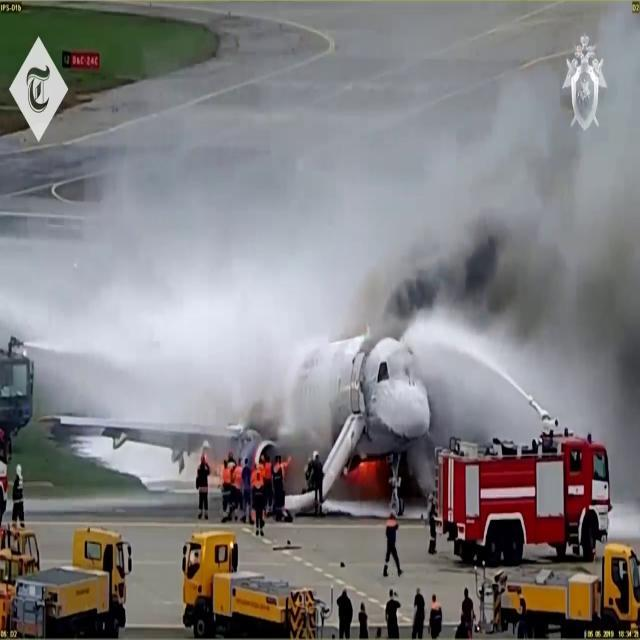Smoke: (332, 15, 640, 389)
